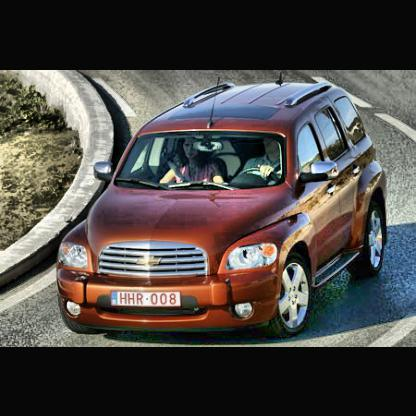Chevrolet HHR SS 2010: (59, 71, 390, 341)
